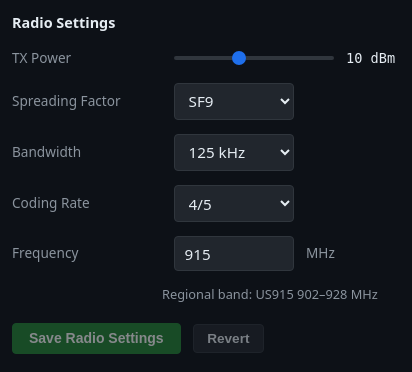
it: RadioForm dirty state and revert behavior › reverts edited values back to persisted config
Select "SF12" in the dropdown labelled "Spreading Factor" at (234, 101), box [174,83,294,120]
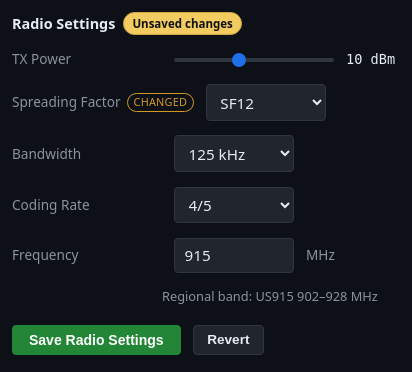
Select "500 kHz" in the dropdown labelled "Bandwidth" at (234, 154), box [174,135,294,172]
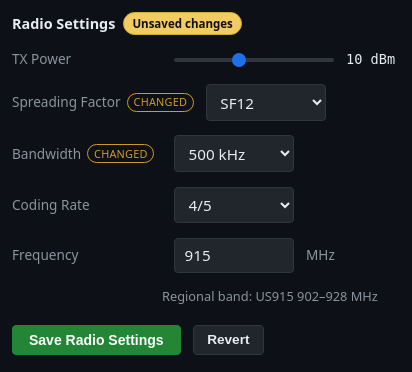
Replace the text in the number field named "frequency in mhz" with "920.5" at (234, 255), box [174,238,294,273]
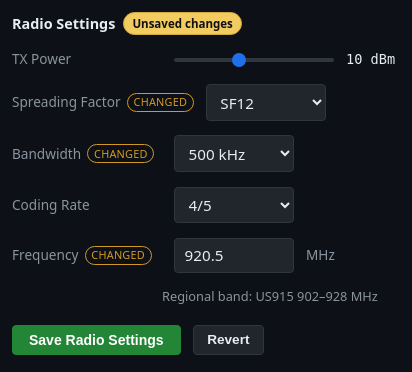
Click the button "Revert" at (228, 340), box [193,325,264,355]
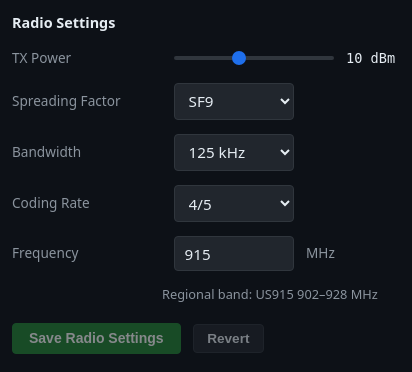
expect the number field named "frequency in mhz" holds "915": met, box [174,236,294,271]
expect the text "Unsaved changes" is gone: met
expect the button "Save Radio Settings" is disabled: met, box [12,323,181,354]
